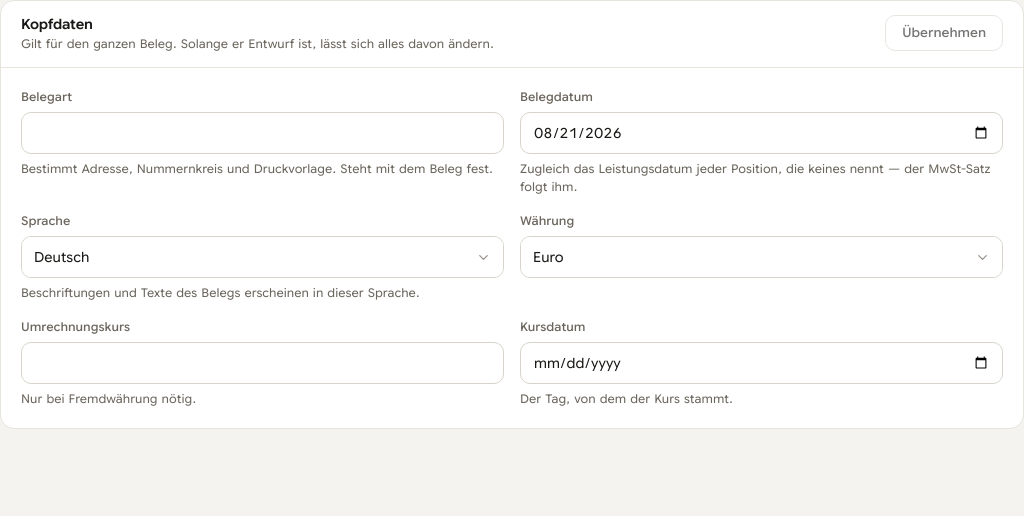
Test case: DocumentHeaderPanel › orderHeaderSaysTheAmountsAreConvertedTest
Select "Euro" in the dropdown labelled "Währung" at (762, 257), box [521,237,1002,277]
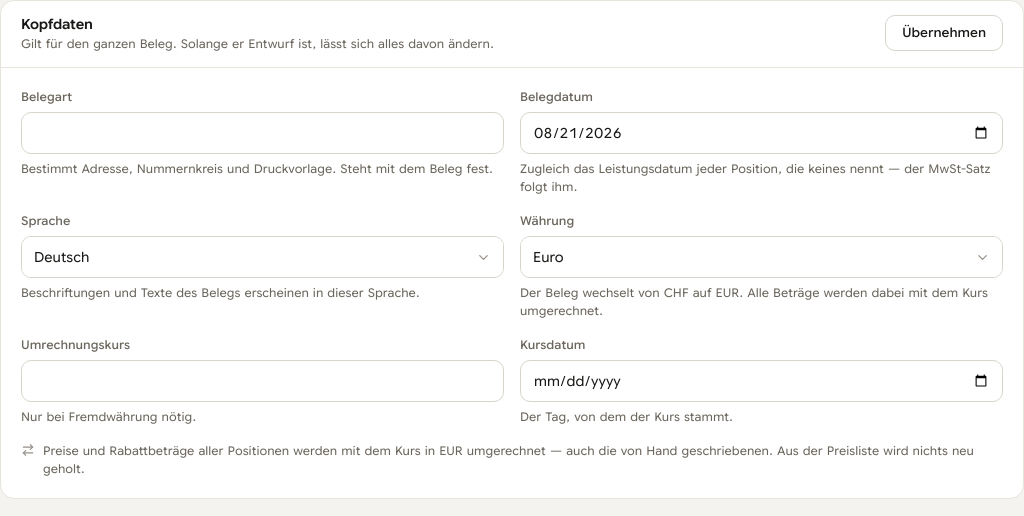
Result: the text "wechselt von CHF auf EUR" is shown at [520,285,988,318]
Result: the text "umgerechnet" is shown at [520,285,988,318]
